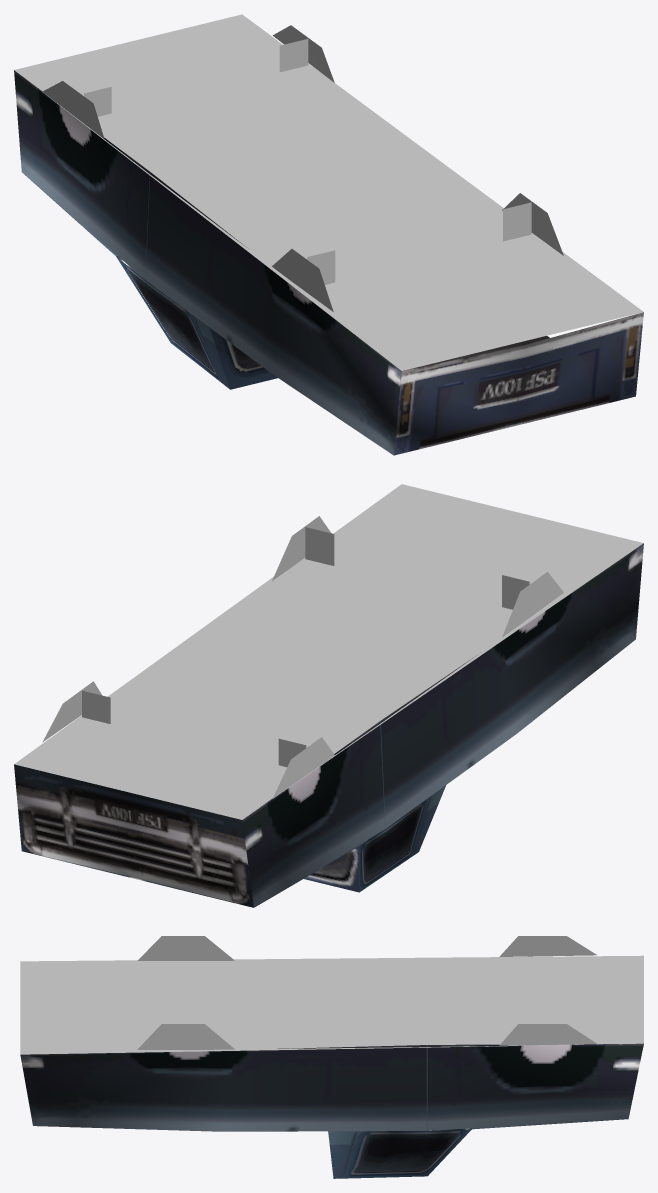
File: VEGAS_model12_low.obj
3 views of the same model, one above another, from view 1: azimuth 30°, elevation 25°; view 2: azimuth 150°, elevation 25°; view 3: azimuth 270°, elevation 25° (orthographic). The views are drawn at different scales.
Parts seen in each view (by area): view 1: VEGAS_model12_low; view 2: VEGAS_model12_low; view 3: VEGAS_model12_low.
Boxes of the visible parts, x1,y1,x2,y2 form: VEGAS_model12_low: [14, 14, 643, 455]; VEGAS_model12_low: [14, 484, 643, 907]; VEGAS_model12_low: [20, 936, 643, 1178].
Size of the model in its own units: 244 by 198 by 696.
